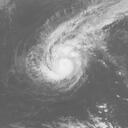cyclone: (34, 43, 85, 88)
